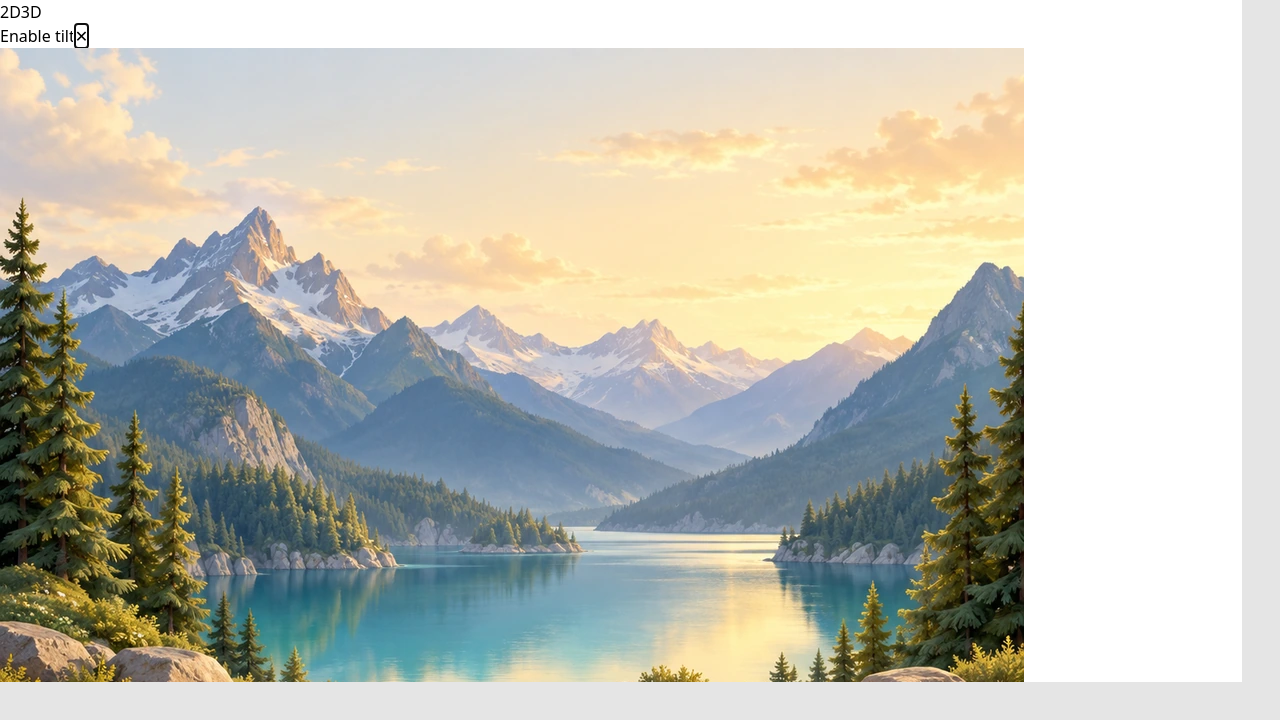
Test: TiltOptIn › requests permission from the button tap and hides it once granted
Click the button "Enable tilt". click: x=37, y=36
box: [0,24,75,48]
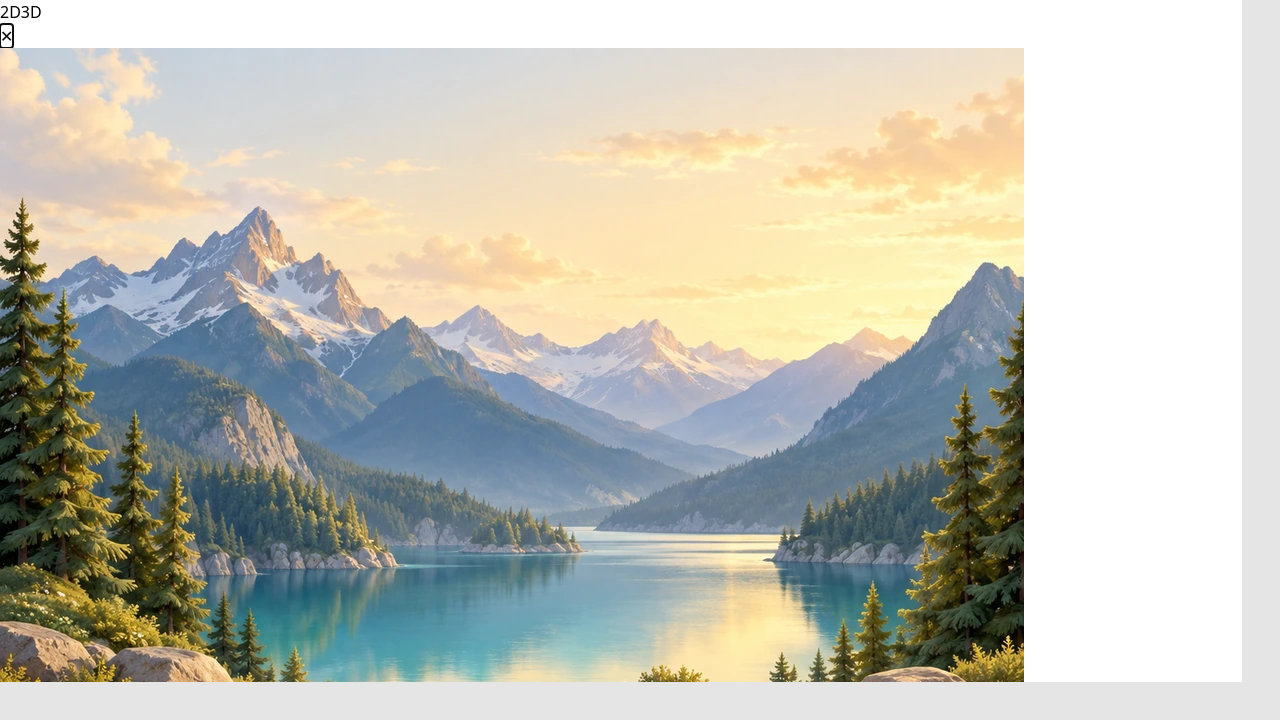
Result: the button "Enable tilt" is gone
